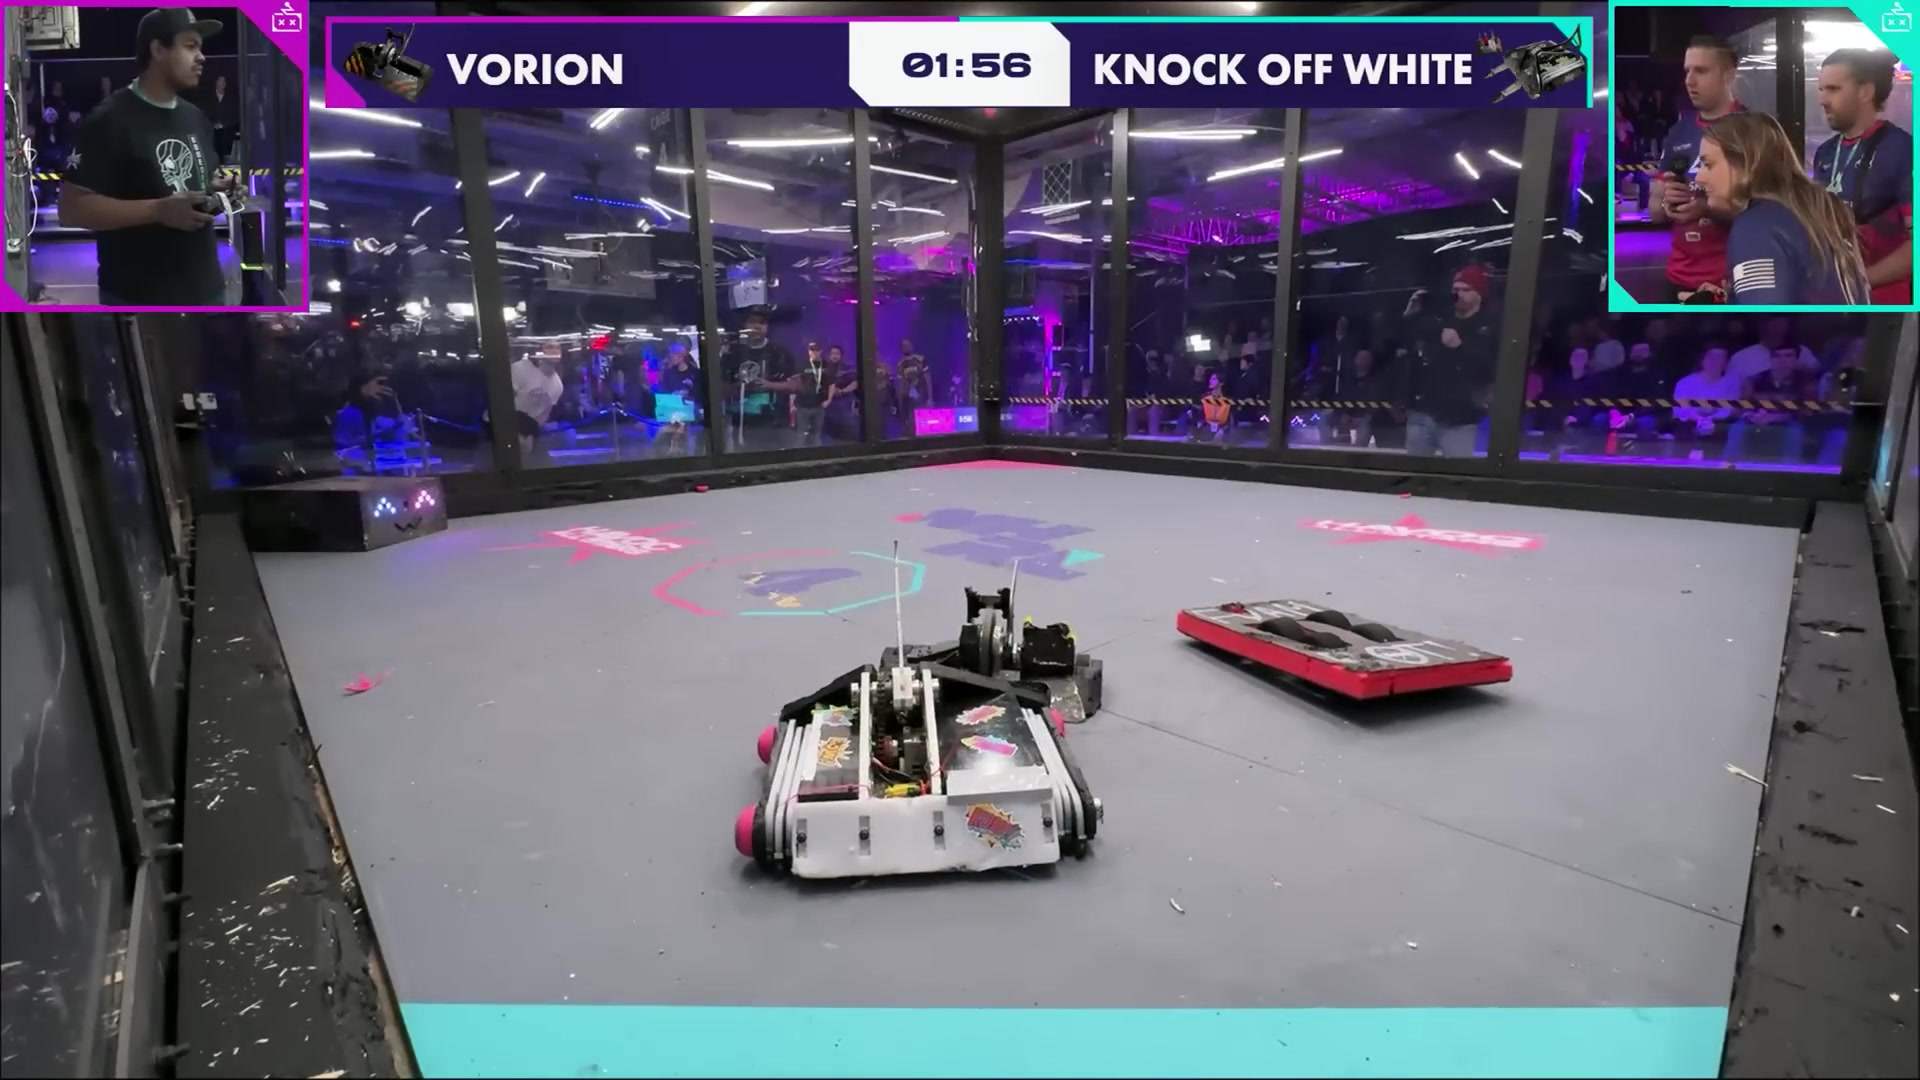combatbot: (735, 663, 1098, 881), (880, 587, 1106, 721)
housebot: (241, 477, 452, 553)
minibot: (1176, 599, 1511, 702)
